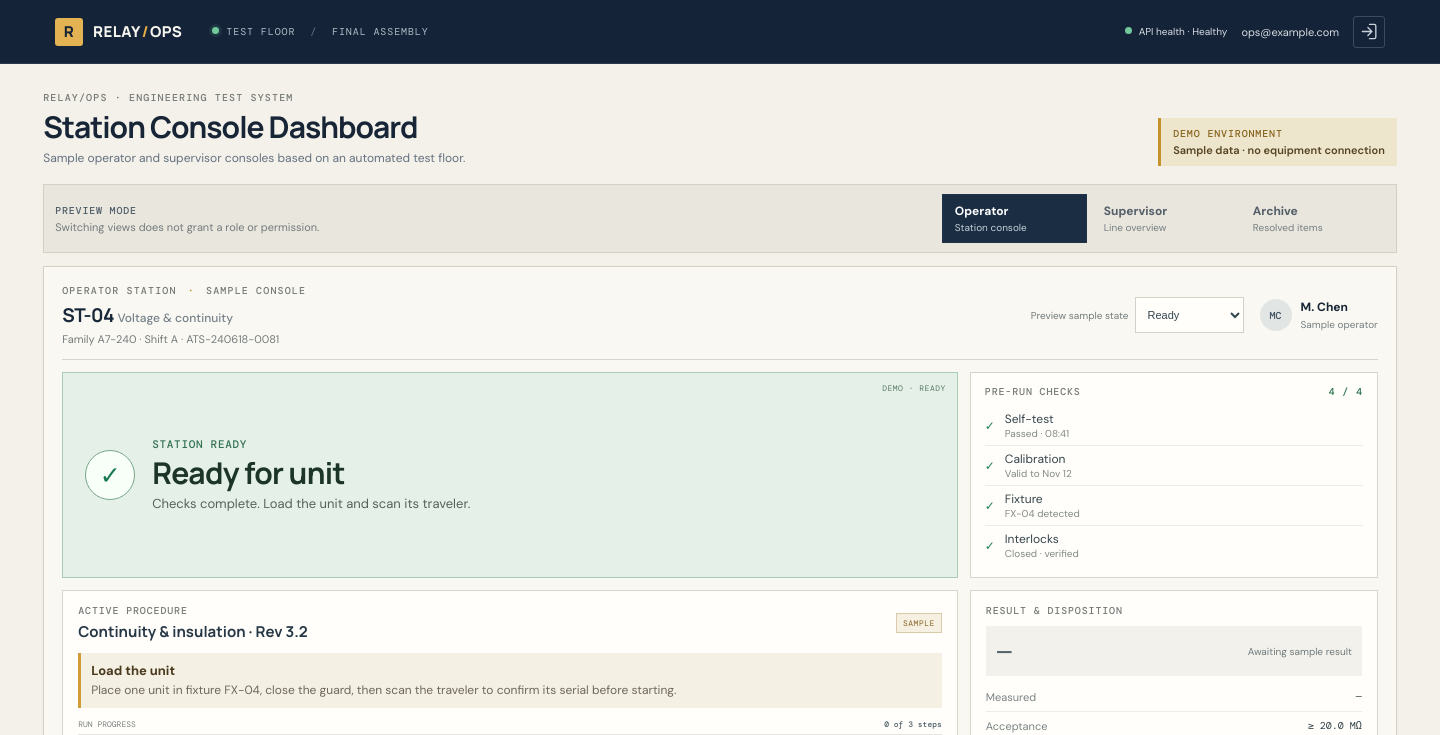
Scenario: keeps the operator console visible and reports a failed logout request
The width and height of the screenshot is (1440, 735).
Click the button named "sign out".
click(1369, 32)  # box [1353,16,1385,48]
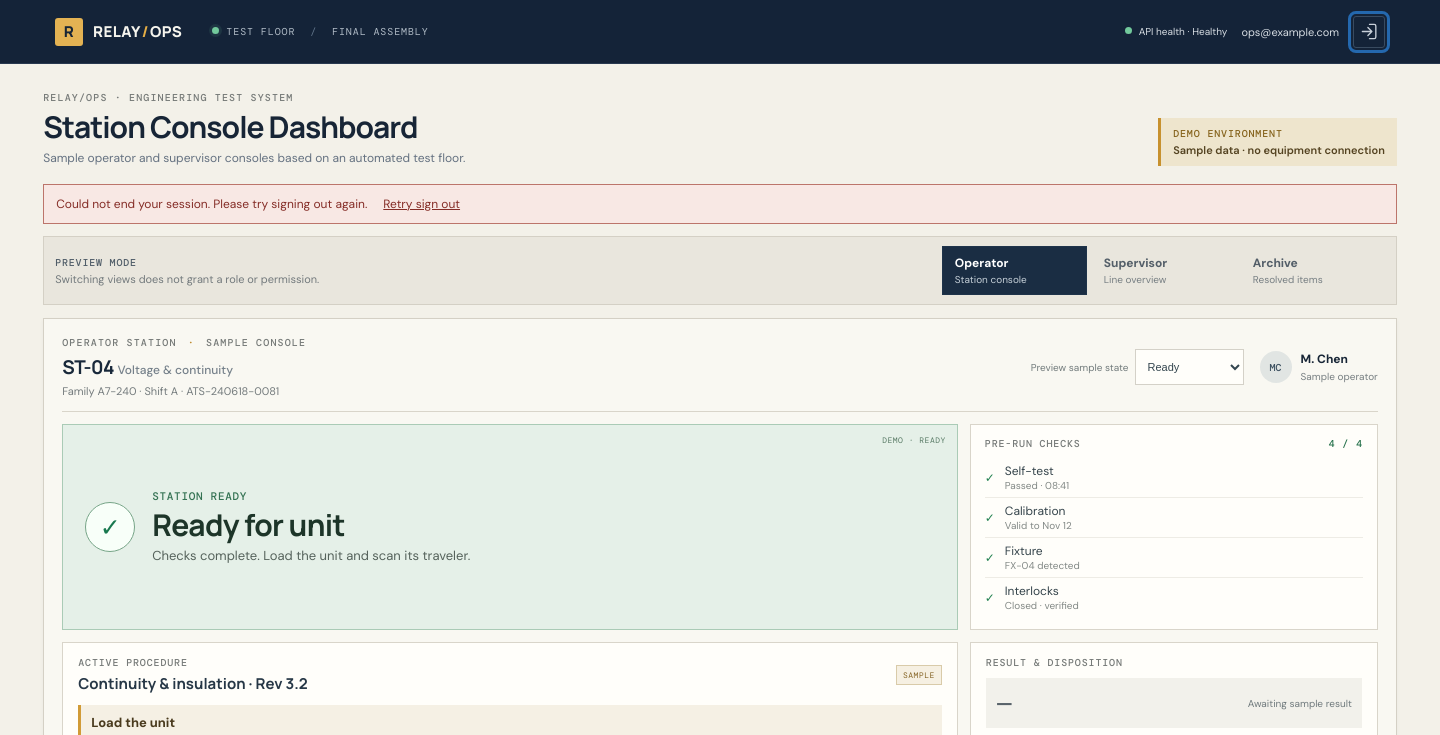
Expected: the heading "Station Console Dashboard" is shown, [43,110,466,143]
Now the message shows "Could not end your session", box [56,196,367,212]
